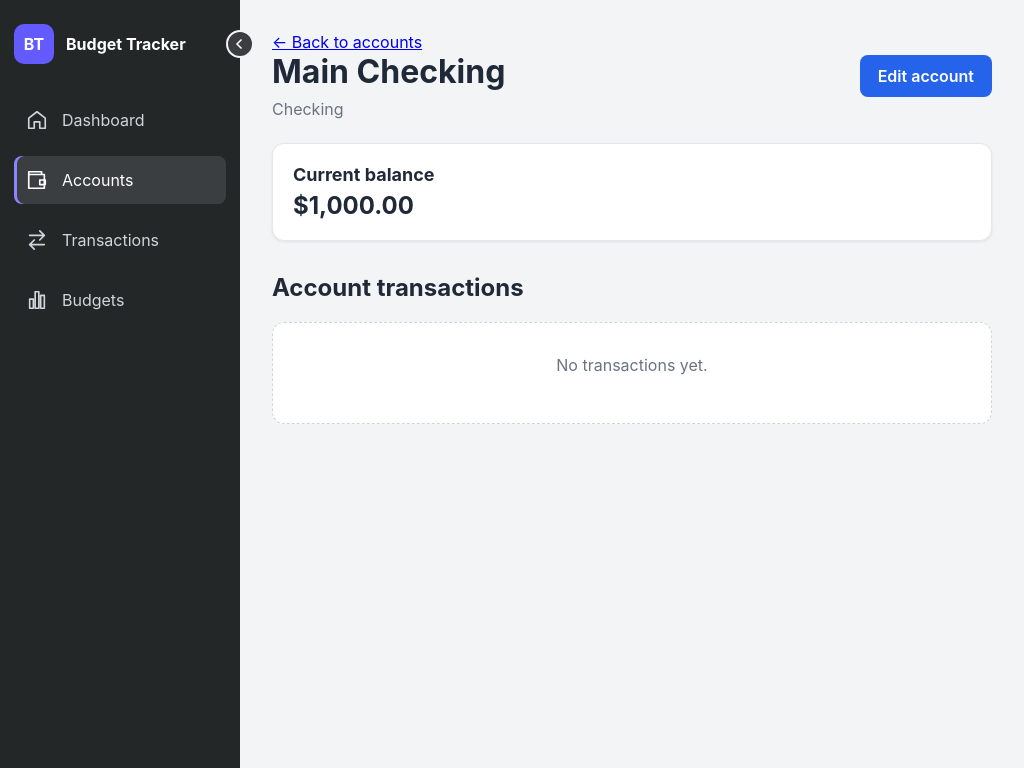
offers account creation from the accounts list and leaves unsaved accounts out of storage
This screenshot has width=1024, height=768.
Expected: the link "Add account" is not shown
Click the link "← Back to accounts": {"x": 347, "y": 42} [272,32,422,52]
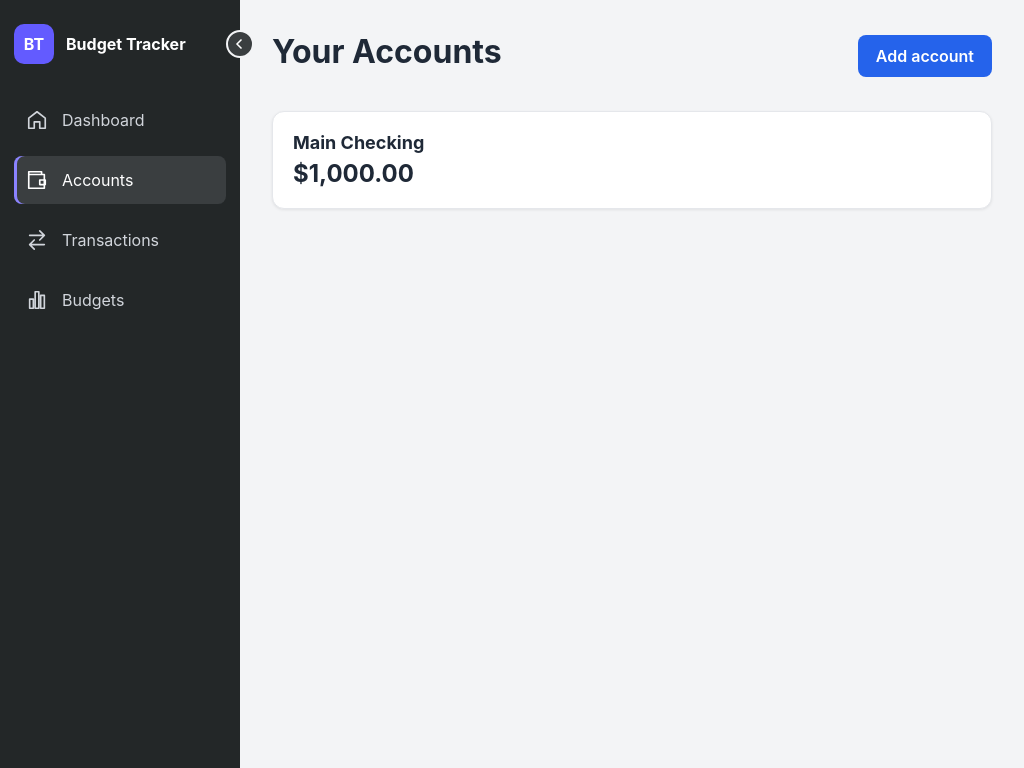
Click the link "Add account": {"x": 925, "y": 56} [858,34,992,76]
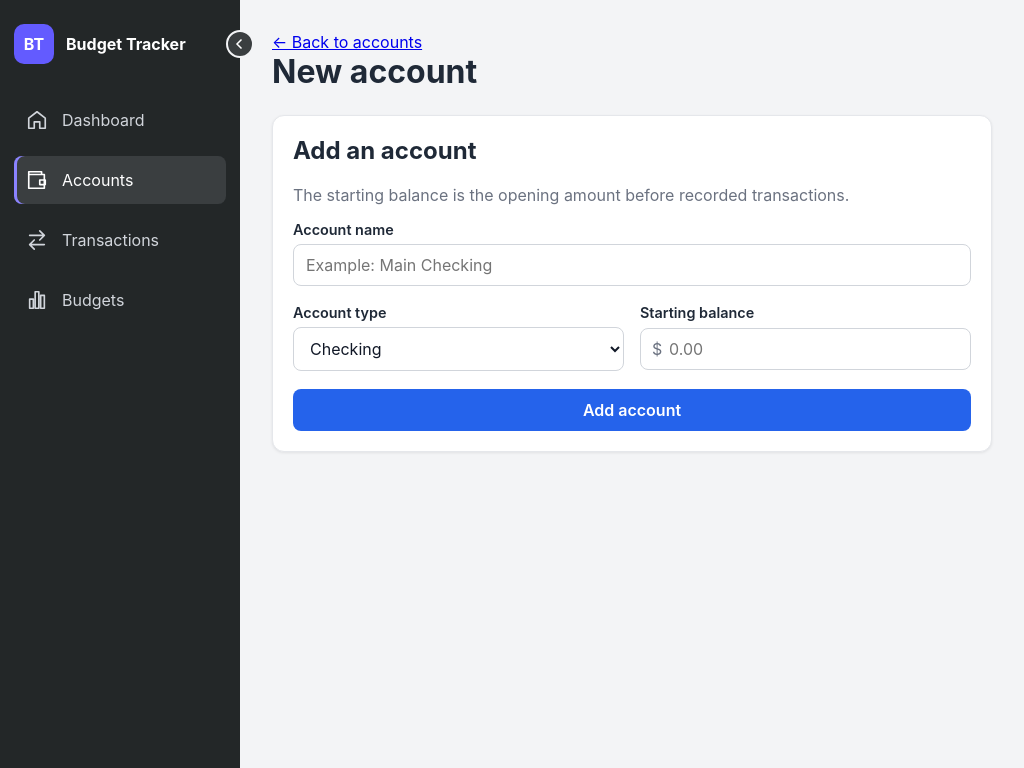
Expected: the heading "New account" is shown, [272,52,477,91]
In the field labelled "Account name": {"x": 632, "y": 265} [293,244,971,286], type "Unsaved savings"
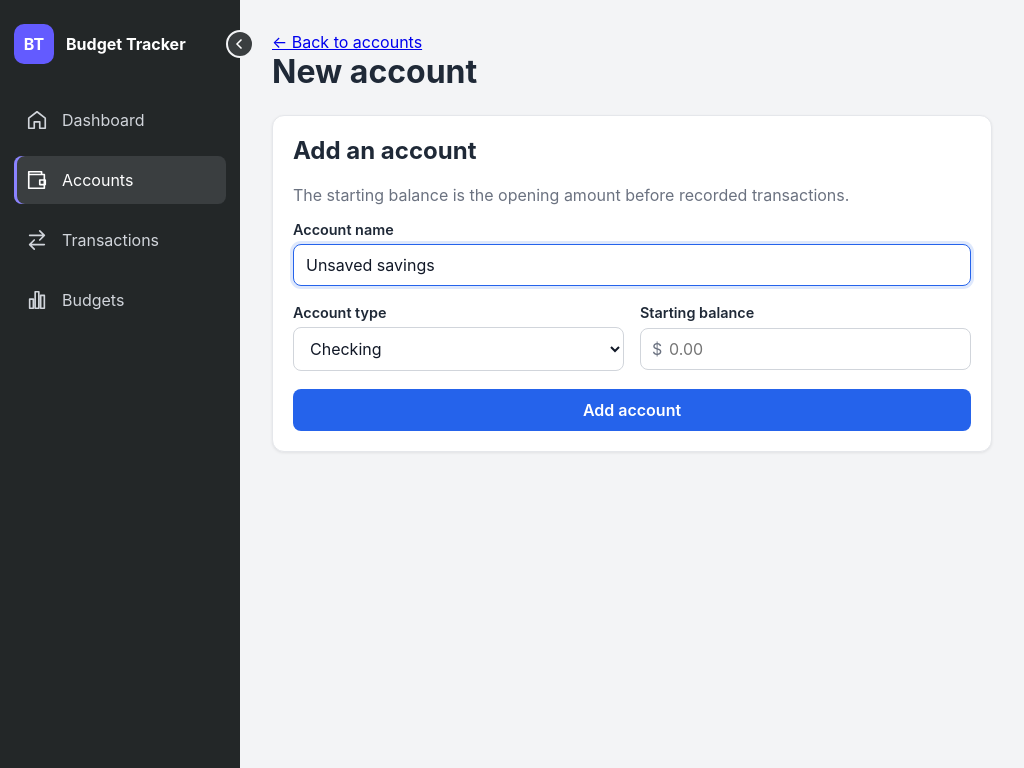
Click the link "← Back to accounts": {"x": 347, "y": 42} [272,32,422,52]
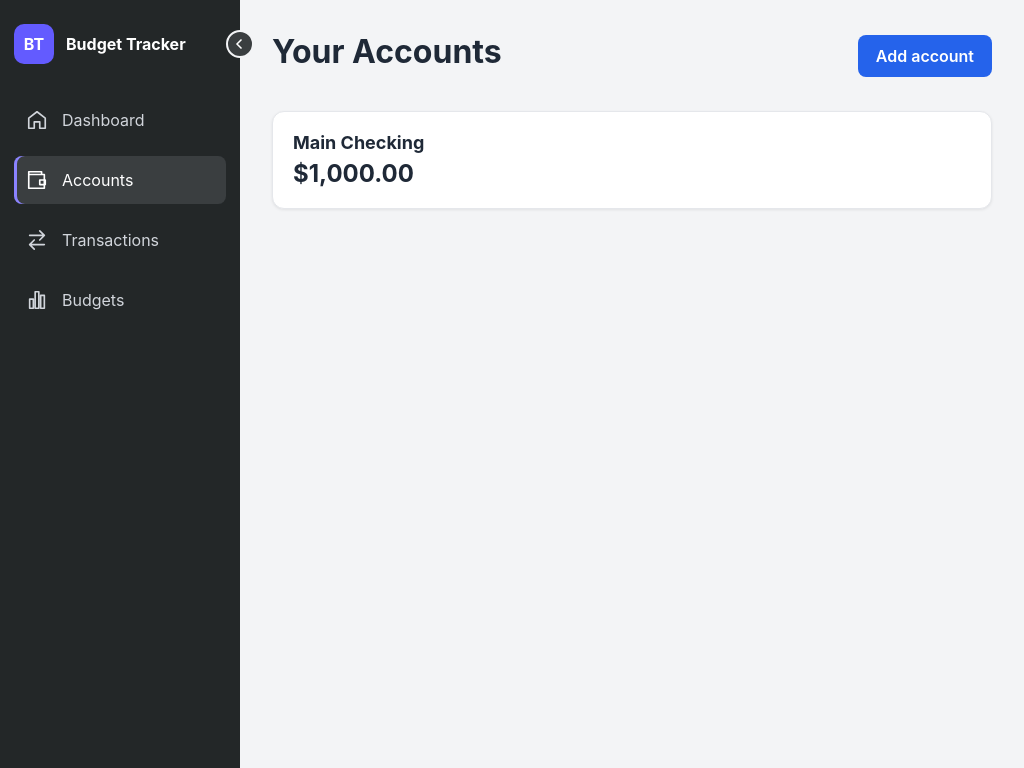
Expected: the label labelled "Account name" is gone
Expected: the link "Main Checking $1,000.00" is shown, [272,111,992,209]
